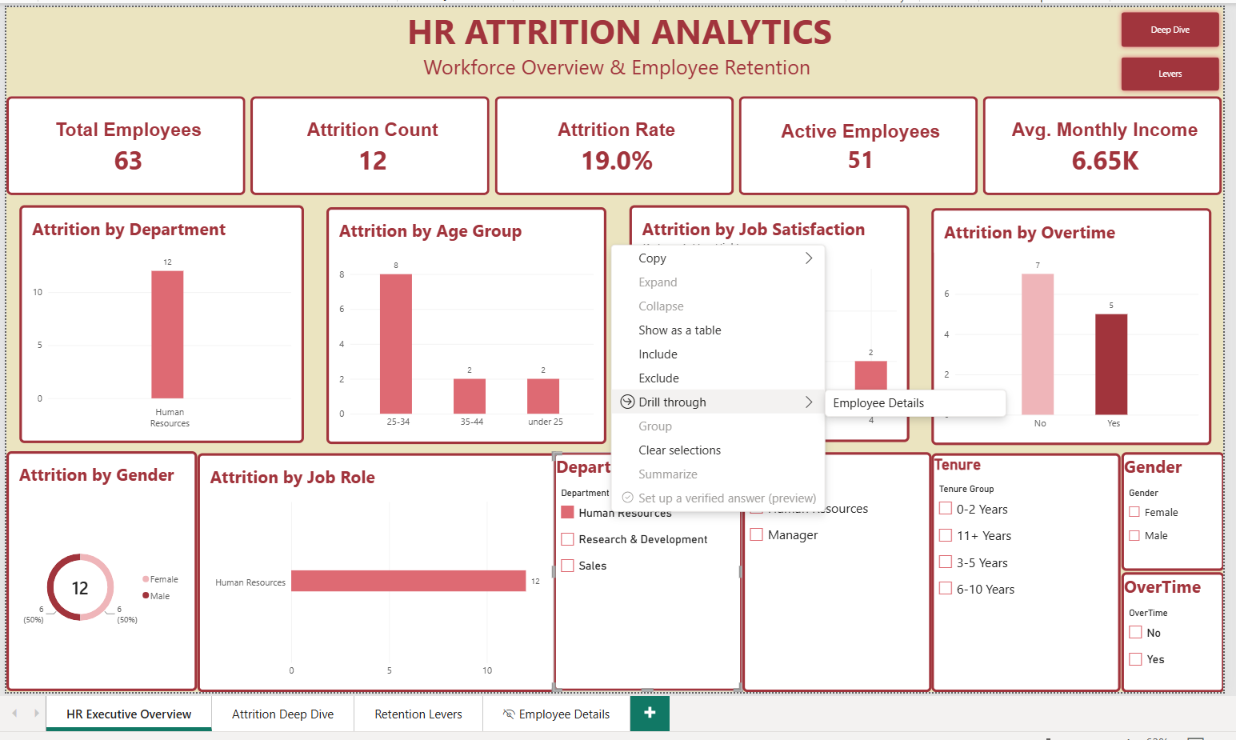

The dashboard page shown, as its layout file describes it:
{"tool":"powerbi","page":{"name":"HR Executive Overview","canvas":[1920,1080],"ordinal":0},"visuals":[{"type":"cardVisual","fields":{"Data":["HR DATA.Total Employees","HR DATA.Attrition Count","HR DATA.Attrition Rate","HR DATA.Active Employees","HR DATA.Average Monthly Income"]},"box":[0,140.3,1920,156.1],"z":0},{"type":"textbox","box":[150,140,300,204],"z":1000},{"type":"textbox","box":[0,140,300,204],"z":2000},{"type":"textbox","box":[0,0,1724.7,165],"z":3000},{"type":"clusteredColumnChart","title":"Attrition by Department","fields":{"Category":["HR DATA.Department"],"Y":["HR DATA.Attrition Count"]},"box":[20.6,312.9,448.7,375.2],"z":4000},{"type":"clusteredBarChart","title":"Attrition by Job Role","fields":{"Category":["HR DATA.JobRole"],"Y":["HR DATA.Attrition Count"]},"box":[300.5,703.9,568.1,376.7],"z":5000},{"type":"clusteredColumnChart","title":"Attrition by Age Group","fields":{"Category":["HR DATA.Age Group "],"Y":["HR DATA.Attrition Count"]},"box":[504.3,314.9,441.4,373.3],"z":6000},{"type":"donutChart","title":"Attrition by Gender","fields":{"Category":["HR DATA.Gender"],"Y":["HR DATA.Attrition Count"]},"box":[0,699.8,300.5,378.7],"z":7000},{"type":"clusteredColumnChart","title":"Attrition by Job Satisfaction","fields":{"Category":["HR DATA.JobSatisfaction"],"Y":["HR DATA.Attrition Count"]},"box":[981.8,312.9,441.4,373.3],"z":8000},{"type":"clusteredColumnChart","title":"Attrition by Overtime","fields":{"Category":["HR DATA.OverTime"],"Y":["HR DATA.Attrition Count"]},"box":[1459.4,317,441.4,373.3],"z":9000},{"type":"slicer","title":"Department ","fields":{"Values":["HR DATA.Department"]},"box":[862.4,701.9,298.5,376.7],"z":10000},{"type":"slicer","title":"Gender ","fields":{"Values":["HR DATA.Gender"]},"box":[1757.8,701.9,162.6,187.3],"z":11000},{"type":"slicer","title":"OverTime","fields":{"Values":["HR DATA.OverTime"]},"box":[1757.8,891.3,162.6,189.4],"z":12000},{"type":"slicer","title":"JobRole","fields":{"Values":["HR DATA.JobRole"]},"box":[1160.9,701.9,298.5,378.7],"z":13000},{"type":"slicer","title":"Tenure ","fields":{"Values":["HR DATA.Tenure Group "]},"box":[1459.4,703.9,298.5,376.7],"z":14000},{"type":"actionButton","box":[1750.4,0,170,70.8],"z":15000},{"type":"actionButton","box":[1750.4,70.8,170,68.8],"z":16000}]}

Visuals, with their boxes in screenshot pixels (x1, y1, x2, y2):
cardVisual - HR DATA.Total Employees x HR DATA.Attrition Count: 3, 92, 1222, 191
textbox: 98, 92, 289, 222
textbox: 3, 92, 194, 222
textbox: 3, 3, 1098, 108
"Attrition by Department" clusteredColumnChart: 16, 202, 301, 440
"Attrition by Job Role" clusteredBarChart: 194, 450, 555, 689
"Attrition by Age Group" clusteredColumnChart: 323, 203, 604, 440
"Attrition by Gender" donutChart: 3, 447, 194, 688
"Attrition by Job Satisfaction" clusteredColumnChart: 627, 202, 907, 439
"Attrition by Overtime" clusteredColumnChart: 930, 204, 1210, 441
"Department " slicer: 551, 449, 740, 688
"Gender " slicer: 1119, 449, 1222, 568
"OverTime" slicer: 1119, 569, 1222, 689
"JobRole" slicer: 740, 449, 930, 689
"Tenure " slicer: 930, 450, 1119, 689
actionButton: 1114, 3, 1222, 48
actionButton: 1114, 48, 1222, 92
